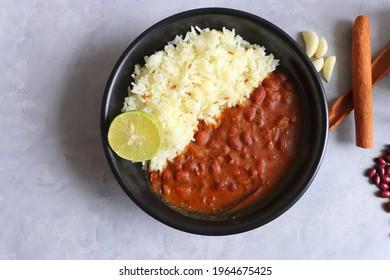rajma: (194, 116, 309, 202)
rice: (136, 29, 245, 109)
